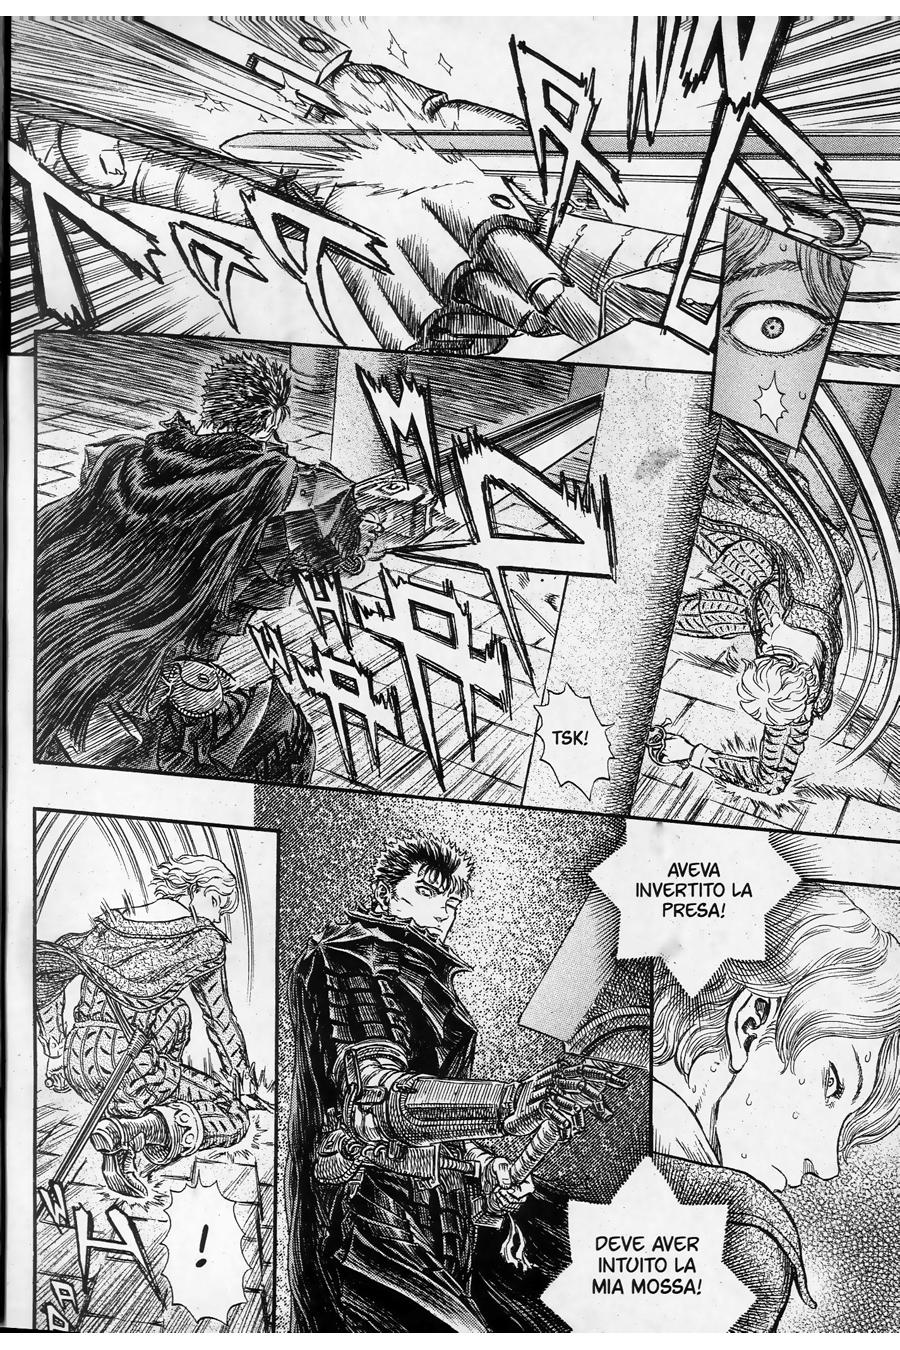Baloon: (542, 1154, 755, 1340), (591, 821, 804, 1001), (161, 1168, 259, 1326), (532, 685, 624, 799)
Vignetta: (34, 334, 899, 842), (1, 15, 899, 362), (277, 785, 655, 1334), (36, 807, 283, 1332), (651, 875, 900, 1335), (706, 207, 853, 450)
